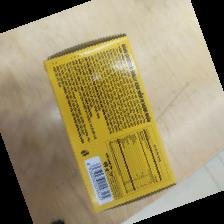Molle: (43, 33, 179, 214)
